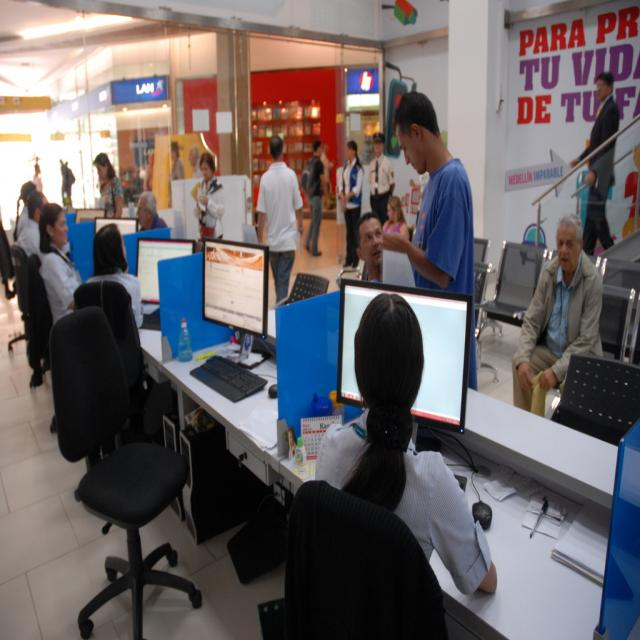chair: (48, 308, 203, 638), (281, 480, 448, 636), (476, 241, 546, 342), (8, 247, 43, 383)
desk: (280, 386, 639, 640)
keyboard: (551, 353, 640, 445), (188, 354, 268, 404)
person: (315, 290, 497, 599), (371, 91, 473, 300), (511, 214, 604, 419), (575, 70, 621, 259), (256, 134, 303, 306), (74, 224, 144, 330), (38, 202, 82, 324), (338, 140, 365, 269), (302, 143, 330, 255), (191, 152, 225, 244), (366, 132, 395, 227), (13, 183, 43, 257), (93, 152, 125, 218), (135, 192, 168, 232), (382, 195, 410, 238), (60, 159, 76, 208)
tv: (336, 282, 471, 433), (202, 240, 267, 339), (137, 239, 194, 306)
